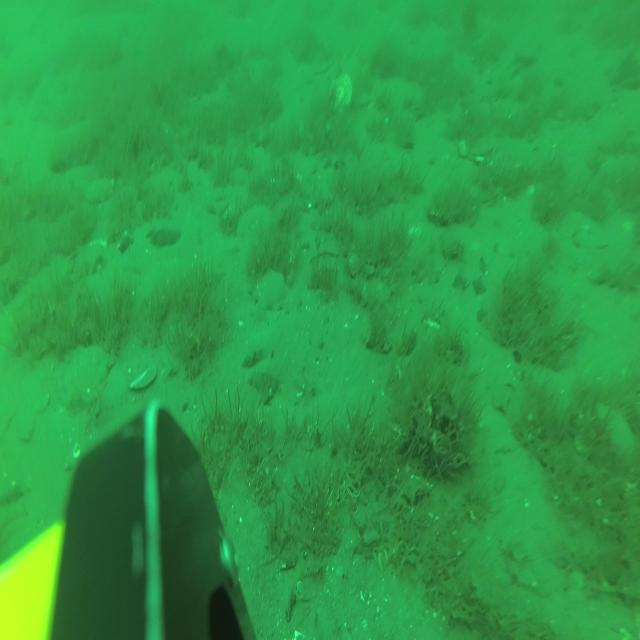scallop: (68, 345, 112, 402), (254, 271, 290, 307), (460, 130, 497, 164), (82, 174, 114, 204), (328, 76, 351, 113)
